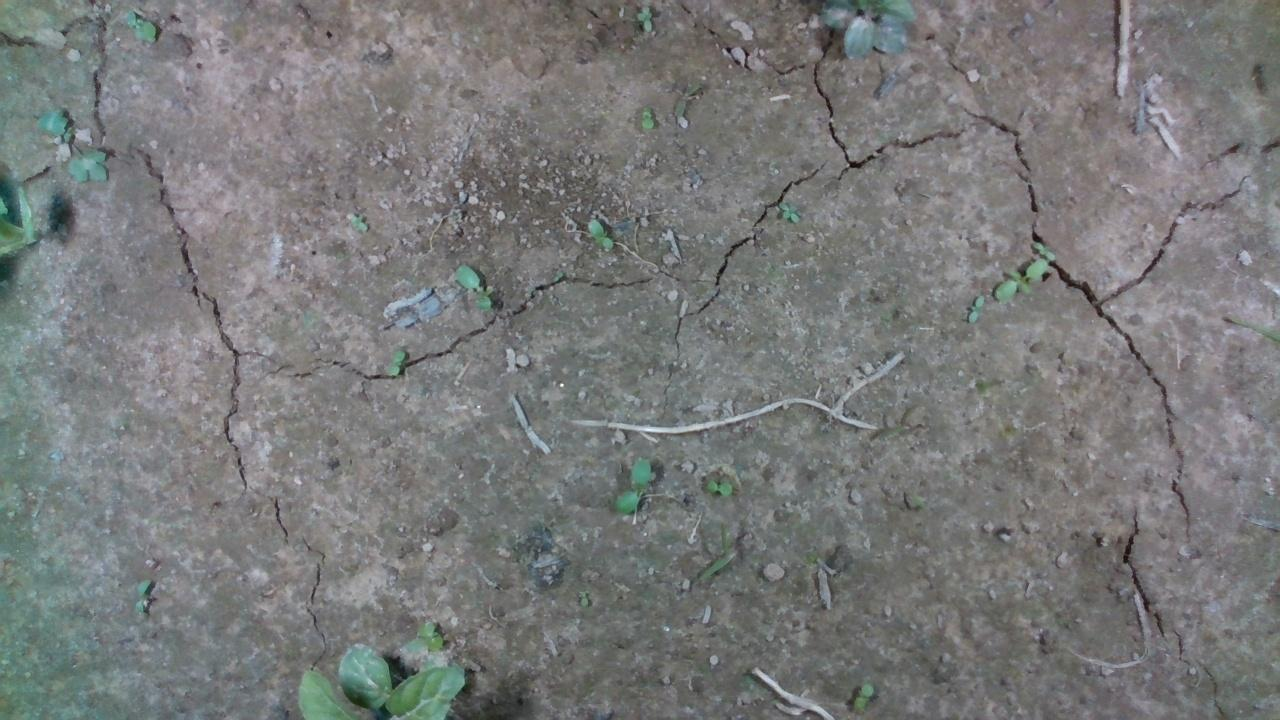weed: (449, 261, 512, 315), (620, 455, 660, 518), (377, 342, 424, 389), (583, 217, 625, 253), (699, 466, 737, 492), (965, 290, 990, 327), (773, 198, 807, 225), (632, 103, 662, 130), (348, 212, 373, 240)
